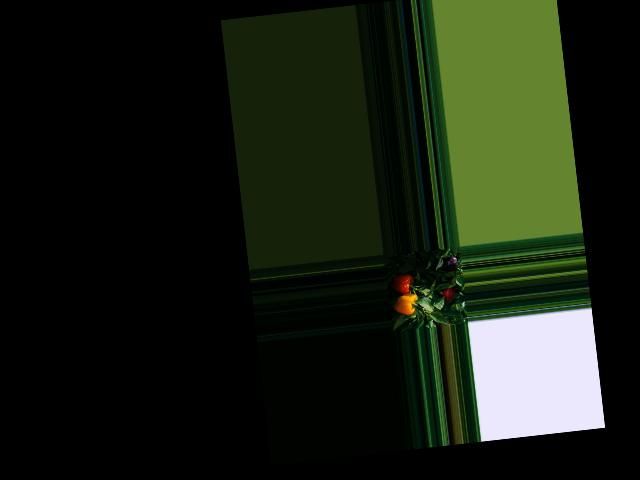bell_pepper: (392, 287, 420, 316)
